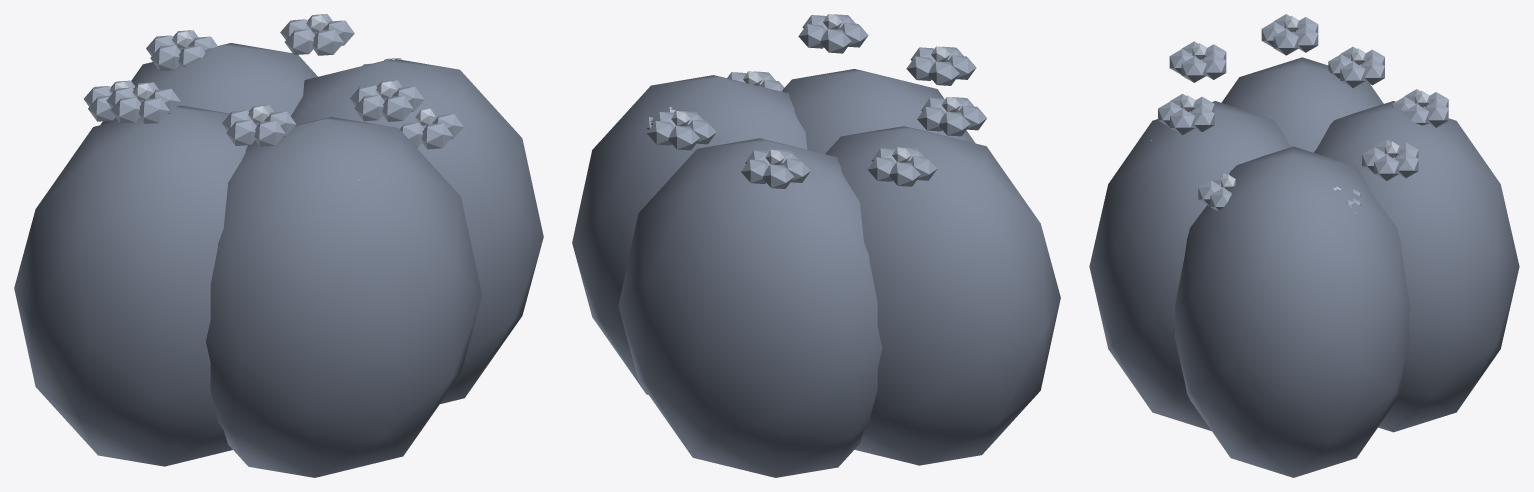
Rendered from garden-shrub-flowering-lite.glb.
The picture shows the model from 3 angles, left to right: view 1: azimuth 30°, elevation 25°; view 2: azimuth 150°, elevation 25°; view 3: azimuth 270°, elevation 25°; orthographic projection. The views are drawn at different scales.
Parts seen in each view (by area): view 1: garden-shrub-flowering; view 2: garden-shrub-flowering; view 3: garden-shrub-flowering.
Part boxes in pixels (bbox=[...]): garden-shrub-flowering: bbox=[14, 14, 543, 477]; garden-shrub-flowering: bbox=[572, 14, 1060, 477]; garden-shrub-flowering: bbox=[1089, 14, 1519, 477].
Size of the model in its own units: 1.05 by 0.8 by 0.9.
